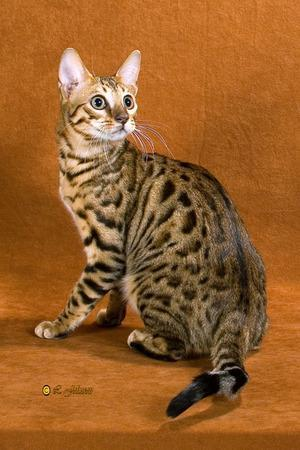bengal: (52, 38, 152, 152)
